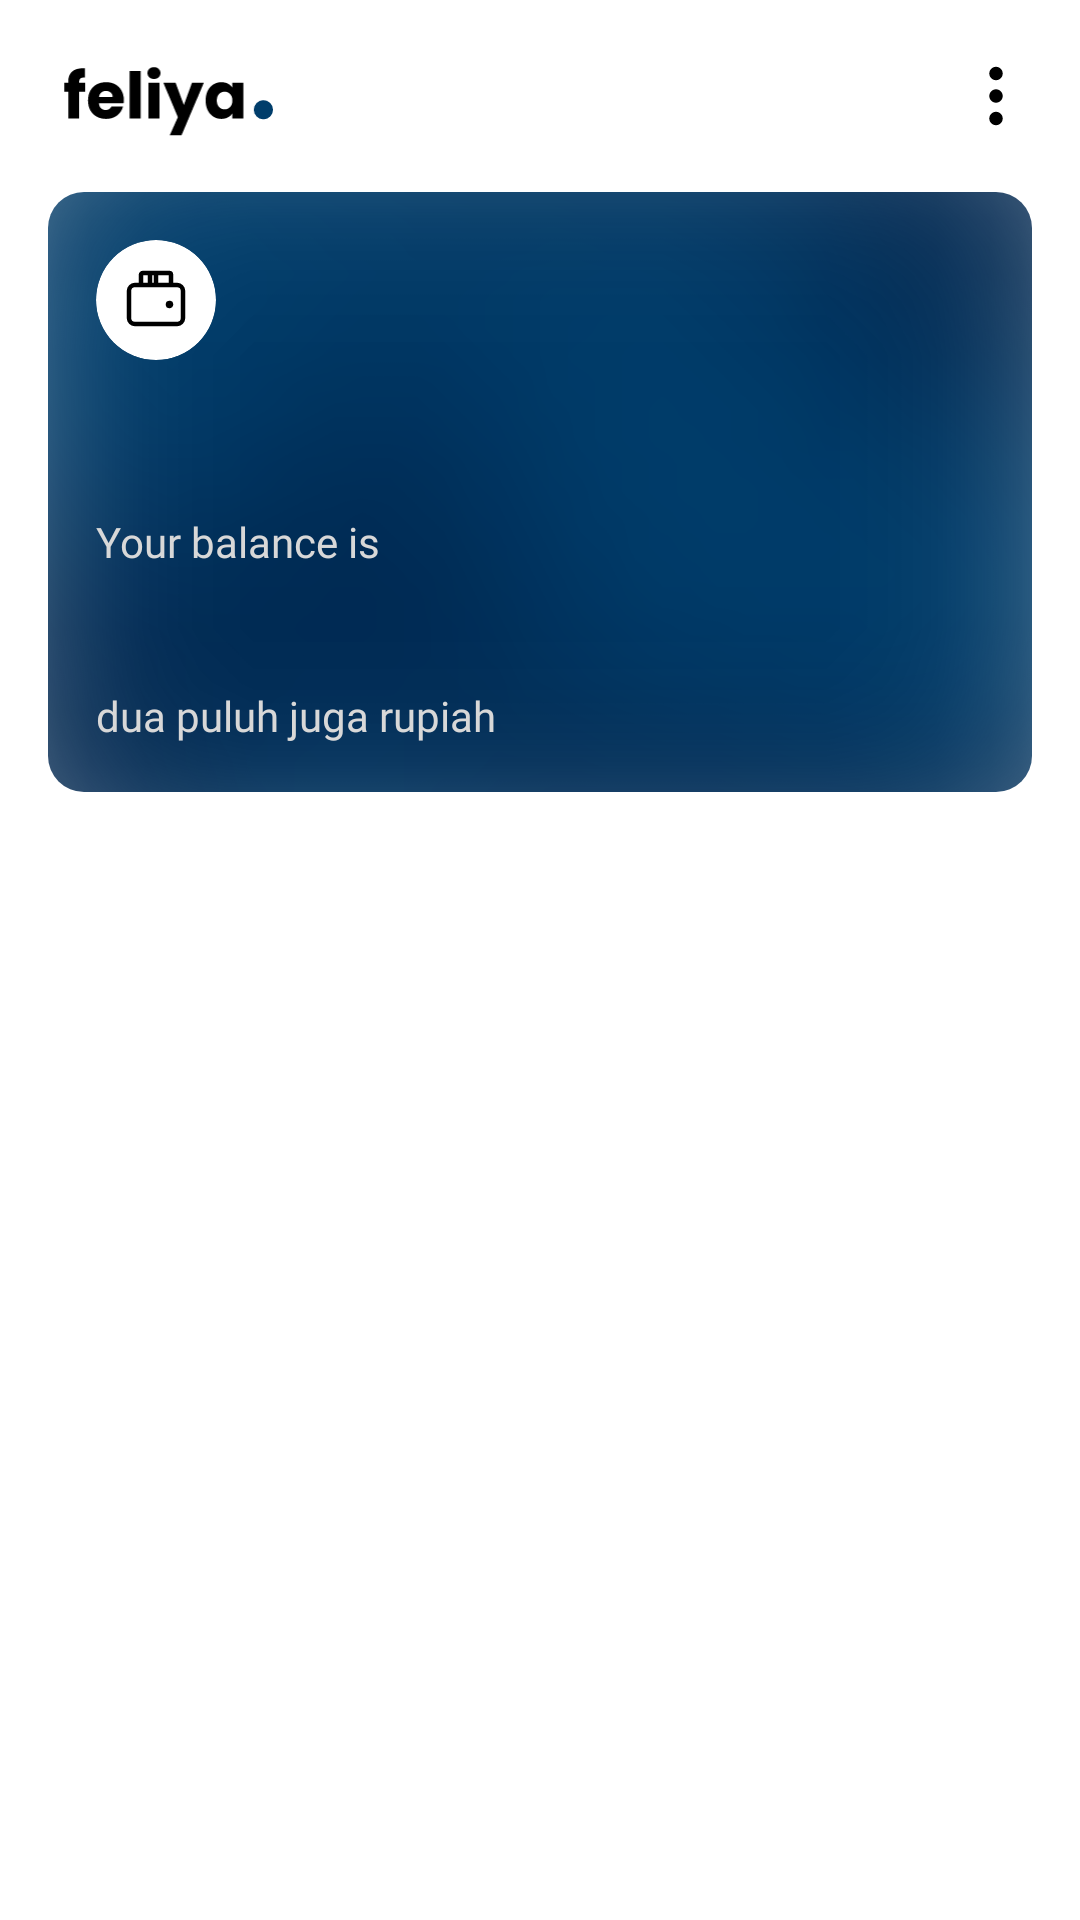

Where to tap for icons on this 1080×1920 app screen, as [x,y]:
three dots vertical: [996,96]
wallet: [156,300]
